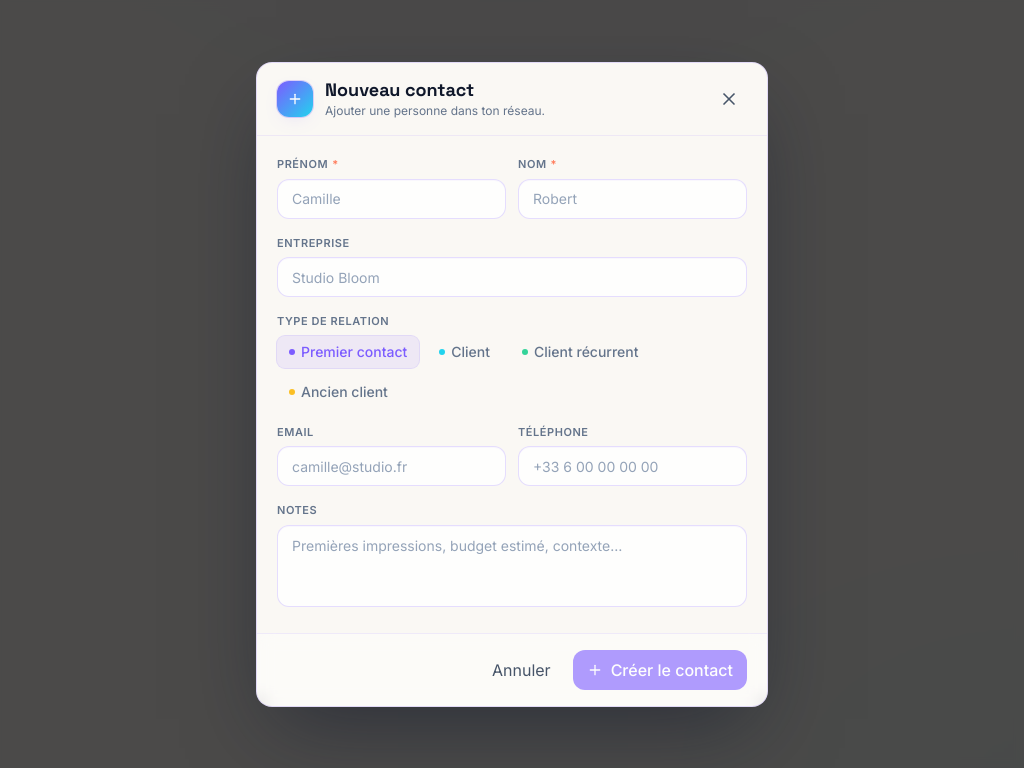
ContactCreateModal — création async Backend 1C › erreur repository : message role="alert", modal reste ouverte, bouton submit réutilisable
Type "Jean" into the field labelled "Prénom *" at coordinates (392, 198), box 277,178 -> 506,218
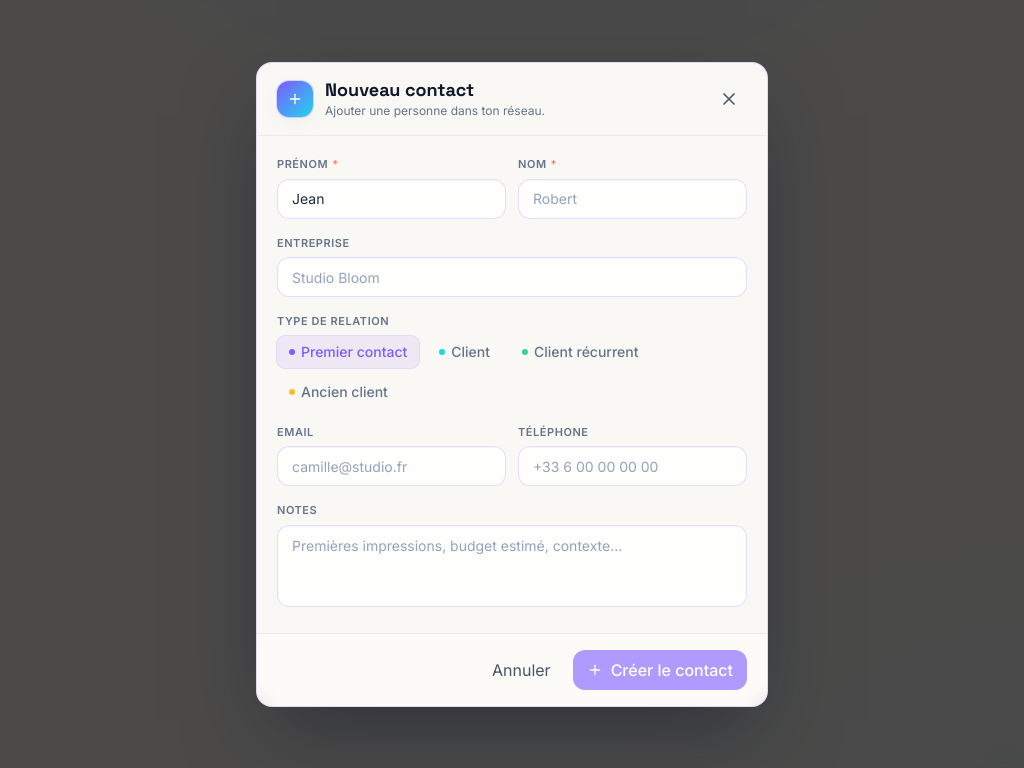
Type "Dupont" into the field labelled "Nom *" at coordinates (632, 198), box 518,178 -> 747,218
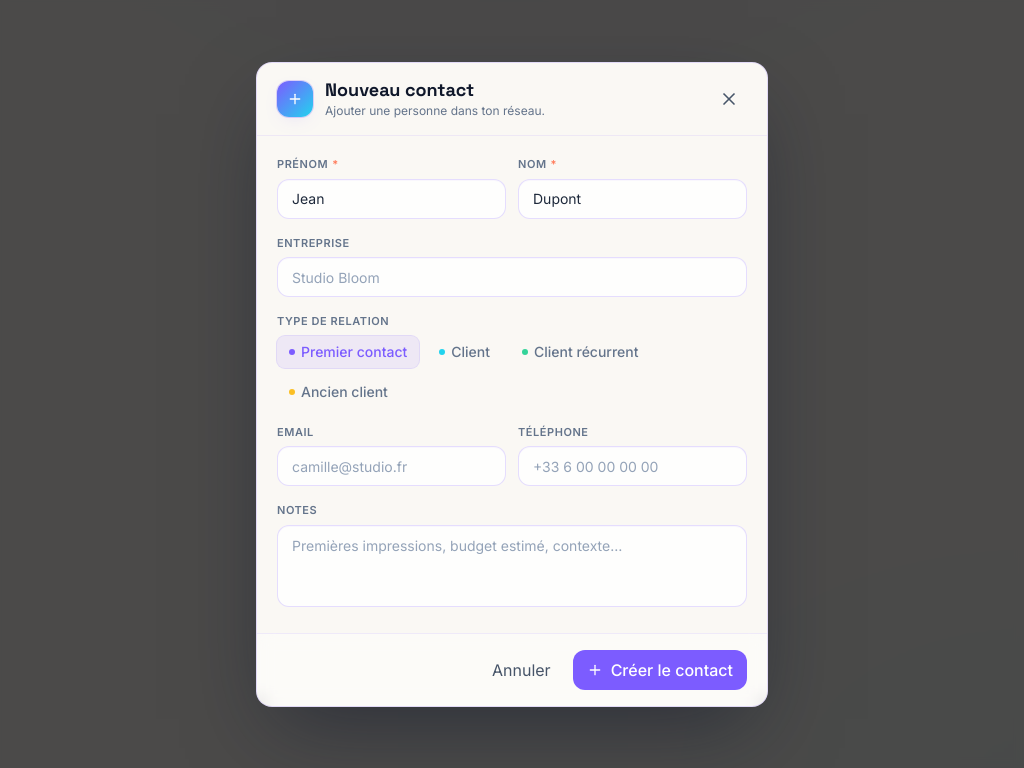
Submit the form, box 257,136 -> 767,706
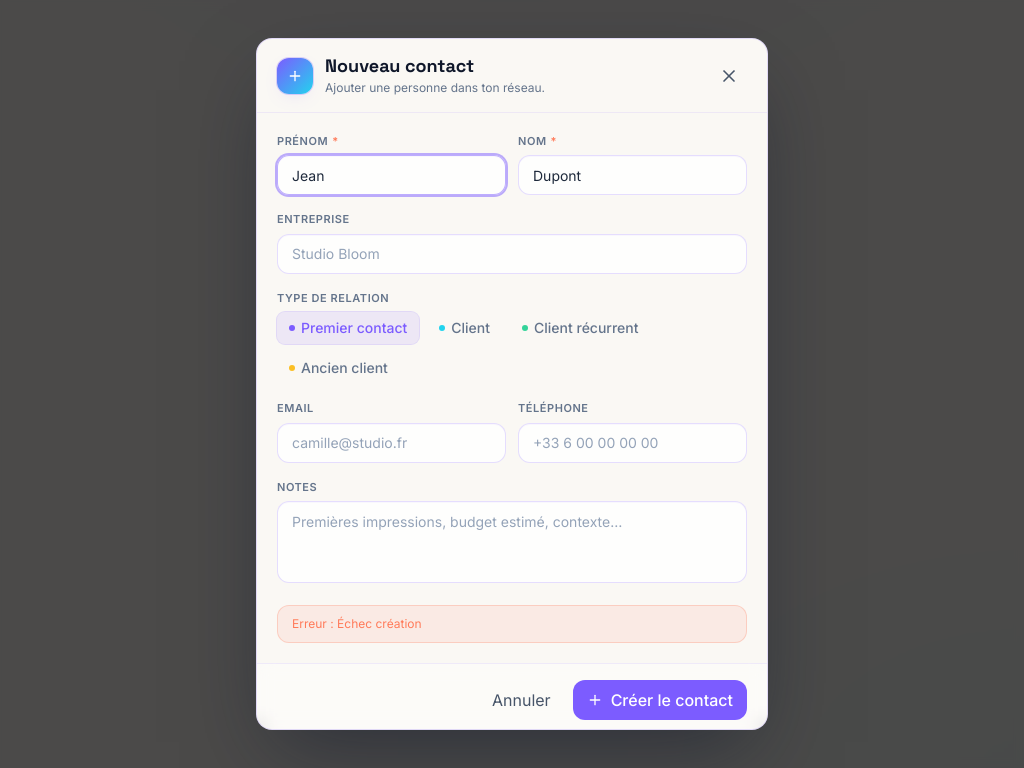
Expected: the button "Créer le contact" is enabled, 573,680 -> 747,720
Expected: the message "Erreur : Échec création" is shown, 277,605 -> 747,643
Expected: the message shows "Échec création", 337,616 -> 422,631
